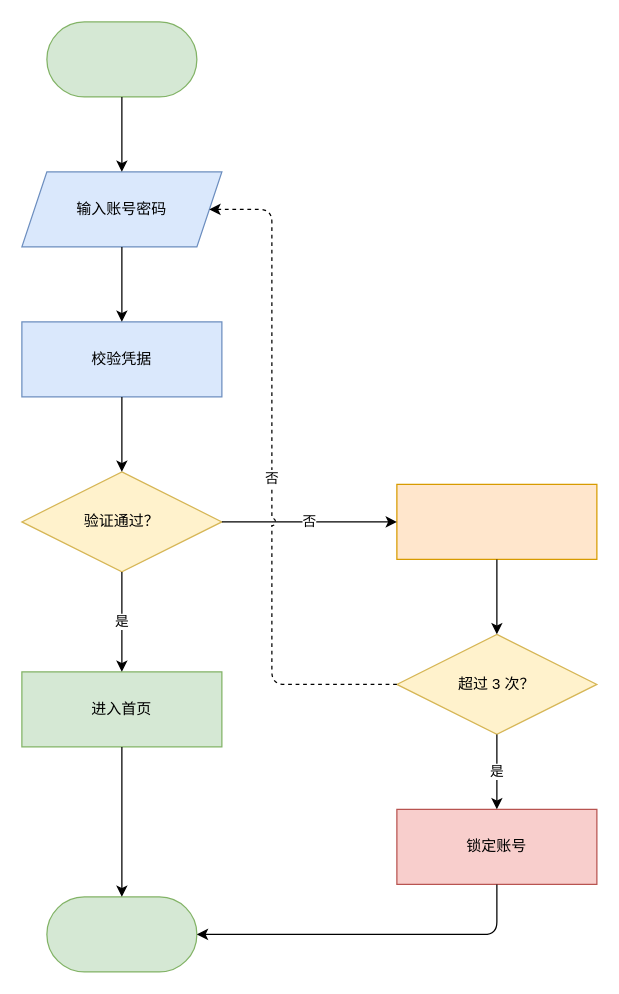
This 619x994 diagram has some shape labels left out. Each missing label, with the centre of its shape:
失败计数 +1: point (496, 521)
开始: point (121, 59)
结束: point (121, 934)
